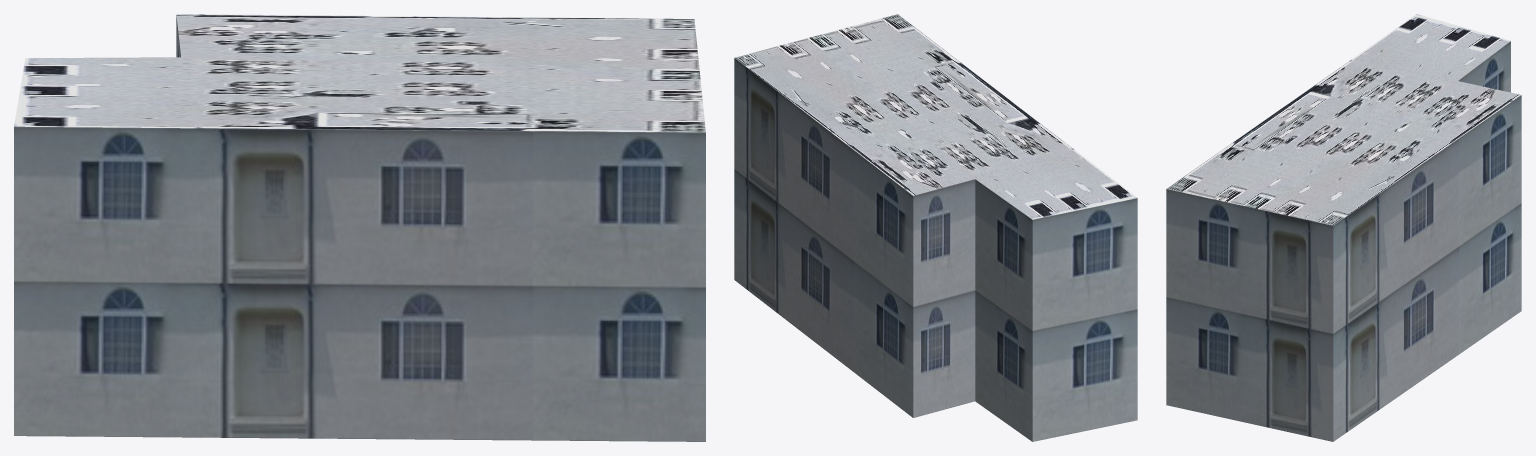
The model's file is ResTex__430.fbx.
The picture shows the model from 3 angles, left to right: view 1: azimuth 30°, elevation 25°; view 2: azimuth 150°, elevation 25°; view 3: azimuth 270°, elevation 25°; orthographic projection. The views are drawn at different scales.
Parts seen in each view (by area): view 1: CityEngineMaterial_17_m, CityEngineMaterial_m; view 2: CityEngineMaterial_17_m, CityEngineMaterial_m; view 3: CityEngineMaterial_17_m, CityEngineMaterial_m.
Boxes of the visible parts, box(x1,y1,x2,y2) form: CityEngineMaterial_17_m: box(14, 15, 705, 441); CityEngineMaterial_m: box(14, 14, 705, 132); CityEngineMaterial_17_m: box(734, 58, 1137, 441); CityEngineMaterial_m: box(734, 14, 1136, 219); CityEngineMaterial_17_m: box(1166, 41, 1521, 441); CityEngineMaterial_m: box(1167, 14, 1520, 225).
Bounding box in the file's own units: 12.6 × 6 × 8.93.
Materials: 2 (2 with a texture image).
